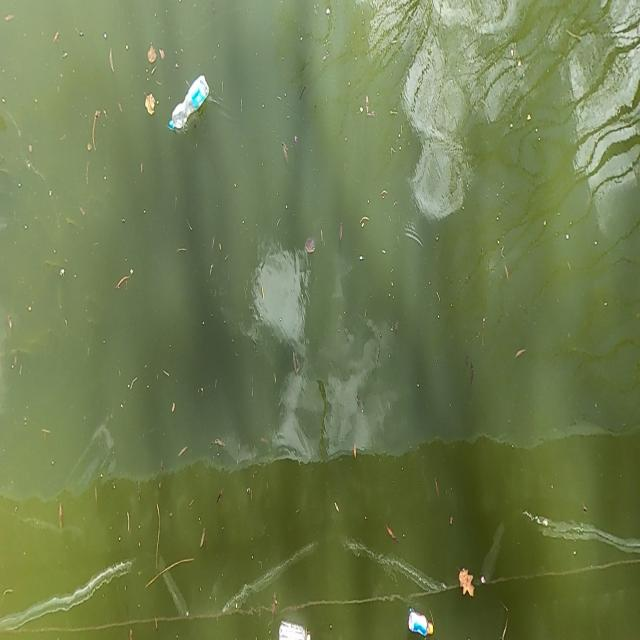Bouteille plastique: (164, 65, 214, 138), (403, 601, 439, 640)
